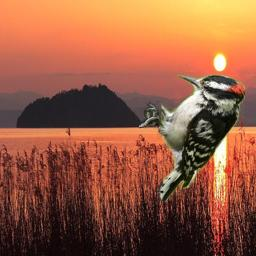Woodpecker: (139, 72, 245, 202)
